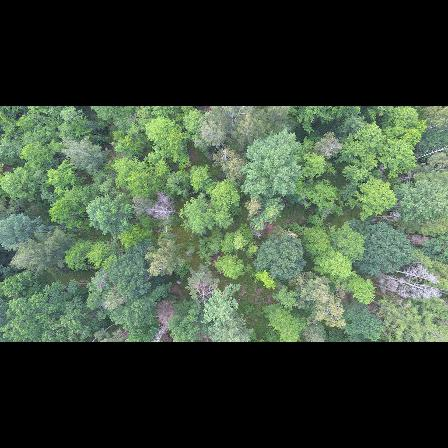Dead: (383, 274, 442, 296), (150, 189, 178, 234), (150, 301, 177, 339), (396, 266, 444, 285), (372, 282, 407, 298)
Sick: (194, 276, 218, 306)
